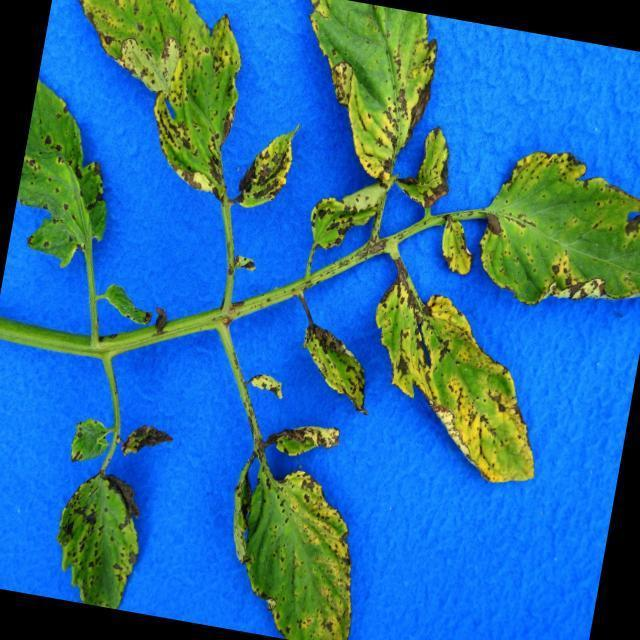Bacterial Spot: (354, 284, 563, 491), (48, 0, 258, 191), (472, 142, 640, 320), (227, 457, 378, 640), (310, 0, 445, 180), (7, 94, 124, 268), (46, 467, 150, 611), (286, 321, 383, 418), (232, 114, 302, 226), (406, 117, 458, 215), (300, 188, 357, 252), (434, 210, 478, 277), (99, 283, 157, 329), (63, 408, 109, 465), (243, 371, 286, 406)
